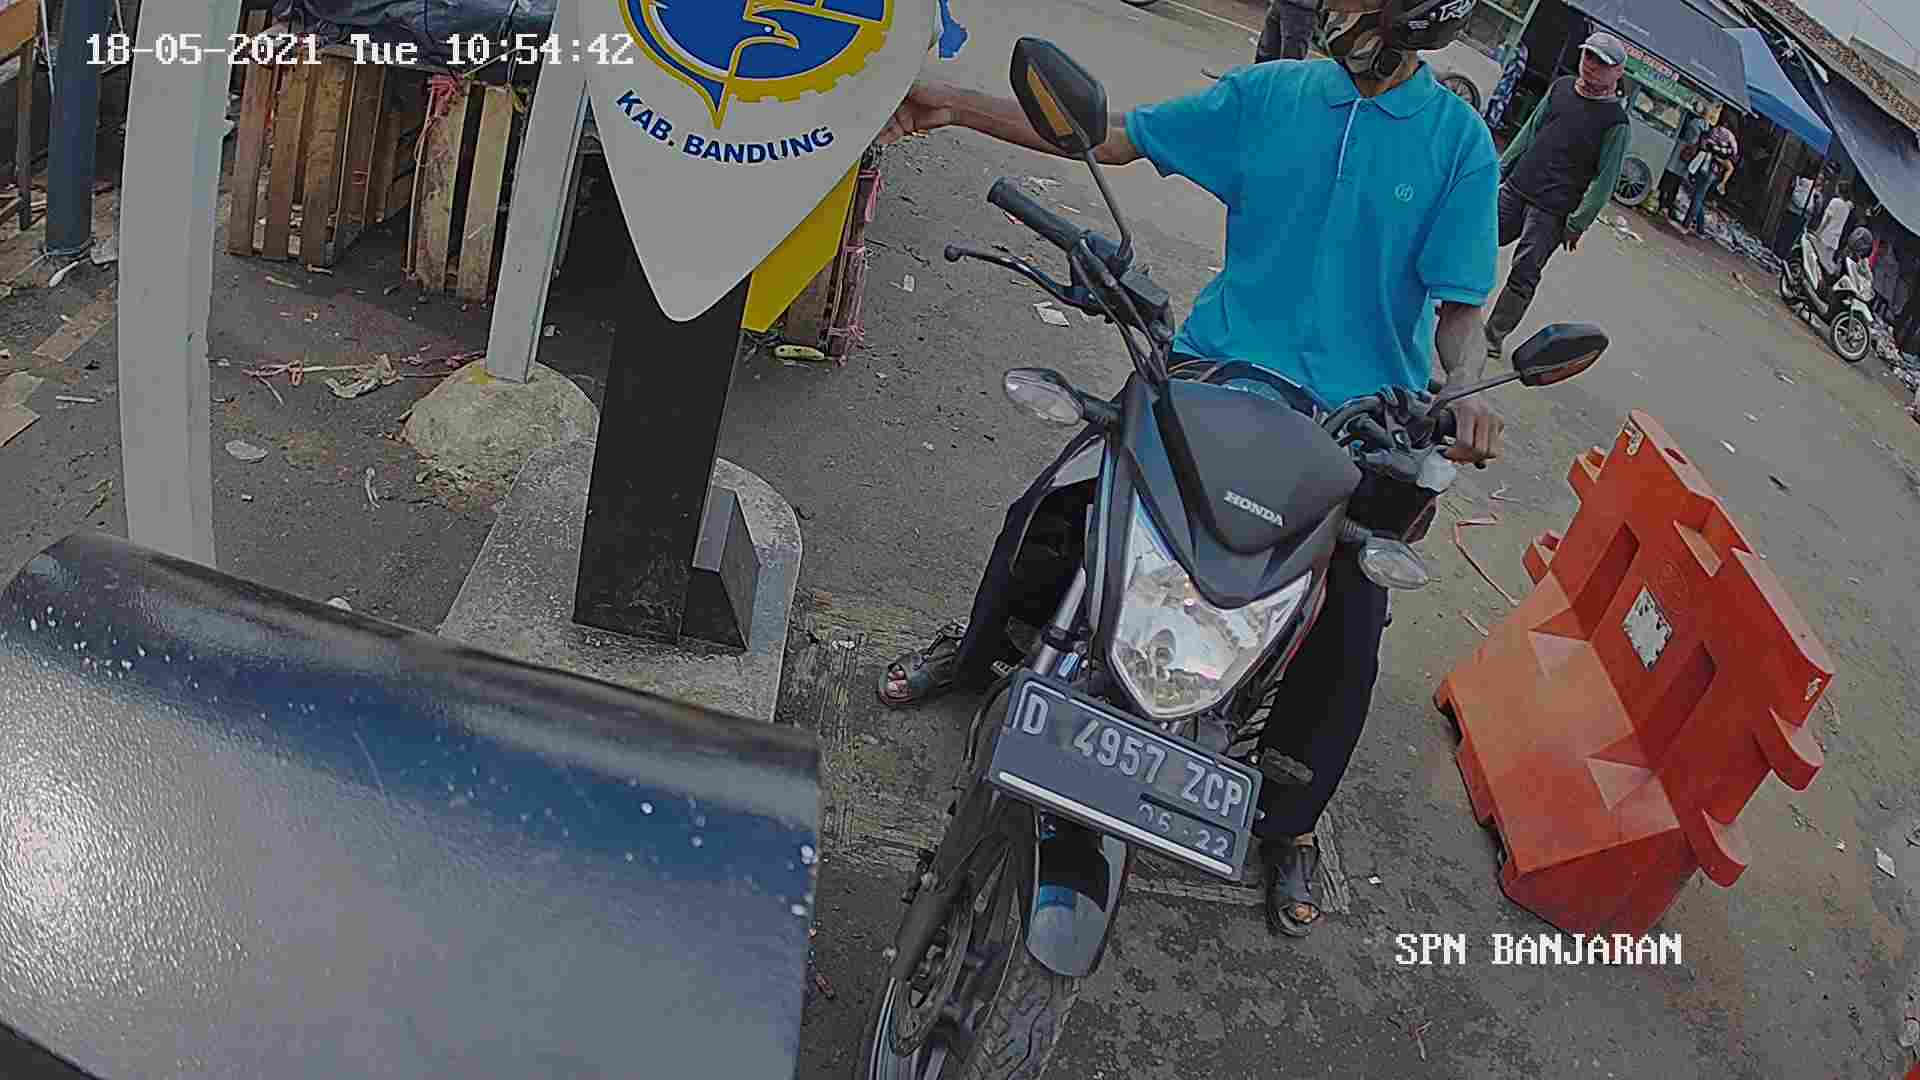motor: (829, 140, 1474, 1072)
